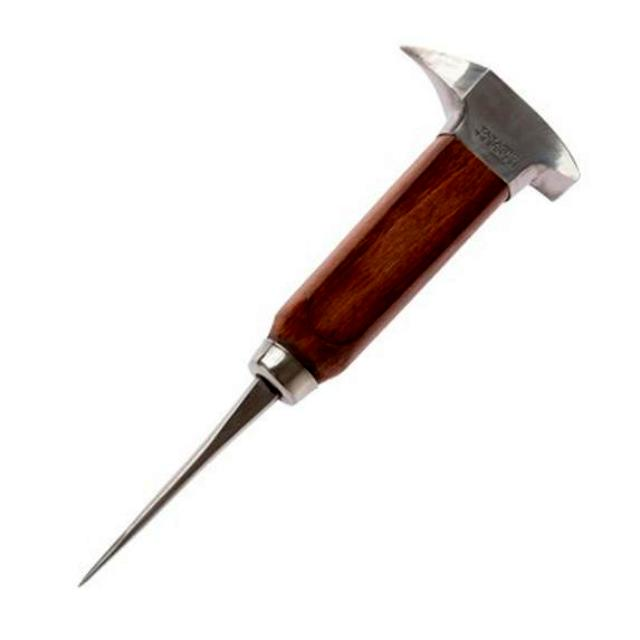ice pick: (75, 42, 583, 590)
